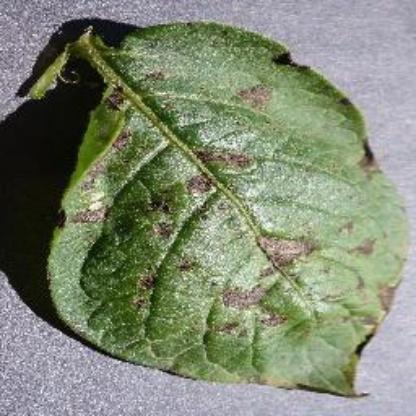Early-Blight: (26, 18, 394, 398)
